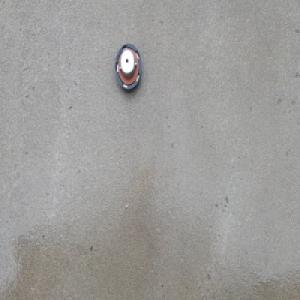FuelCap: (115, 42, 142, 92)
